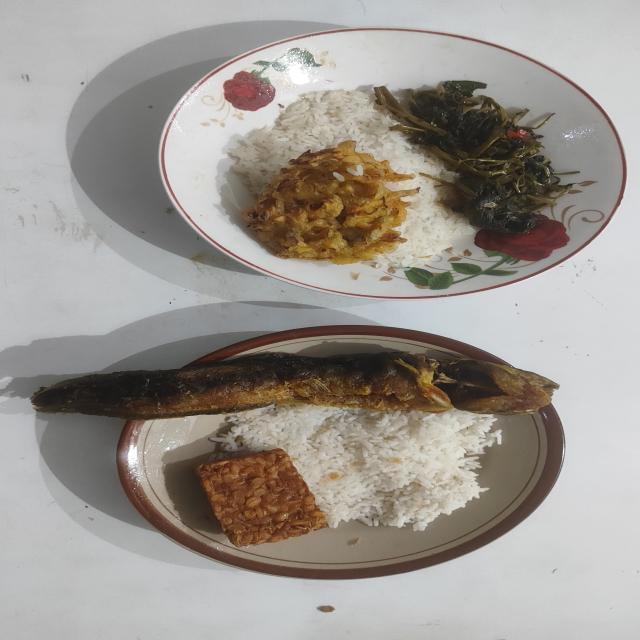nasi_putih: (224, 89, 472, 268), (220, 406, 500, 530)
tempe_goreng: (197, 449, 327, 547)
tumis_kangkung: (374, 81, 574, 234)
